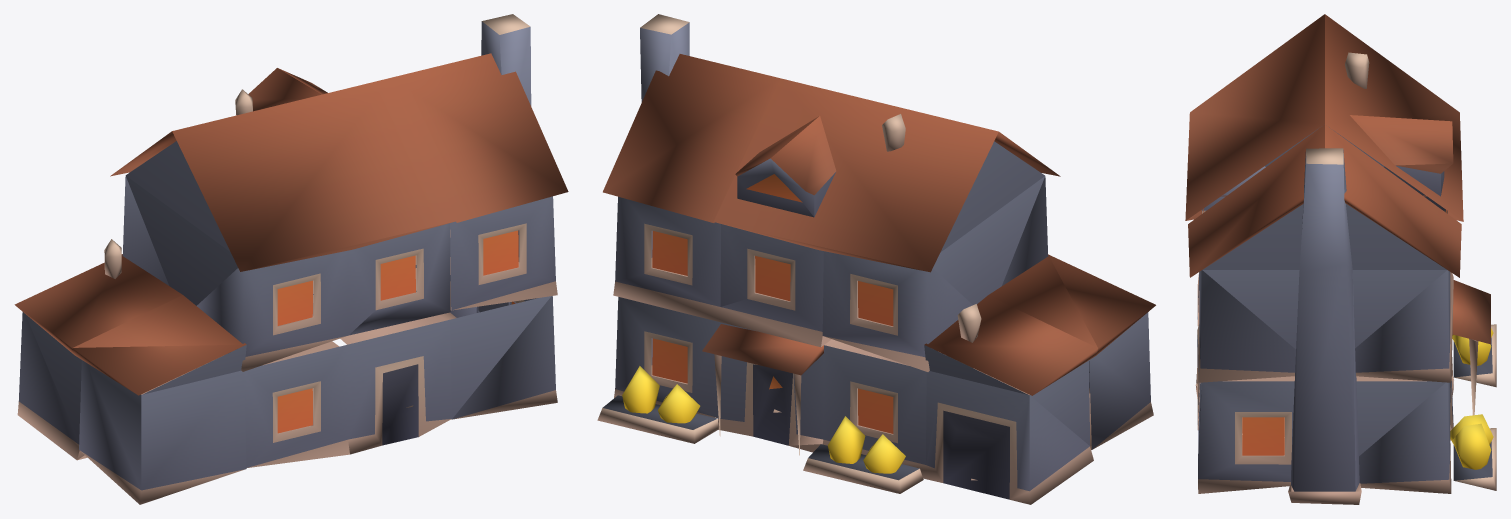
File: casa_d.fbx
3 views of the same model, side by side, from view 1: azimuth 30°, elevation 25°; view 2: azimuth 150°, elevation 25°; view 3: azimuth 270°, elevation 25° (orthographic). The views are drawn at different scales.
Visible parts, largest first — view 1: casa_d; view 2: casa_d; view 3: casa_d.
Part boxes in pixels (box(x1,y1,x2,y2)): casa_d: box(14, 14, 568, 504); casa_d: box(597, 14, 1155, 504); casa_d: box(1185, 14, 1496, 504).
Size of the model in its own units: 1.75 by 1.23 by 1.01.
